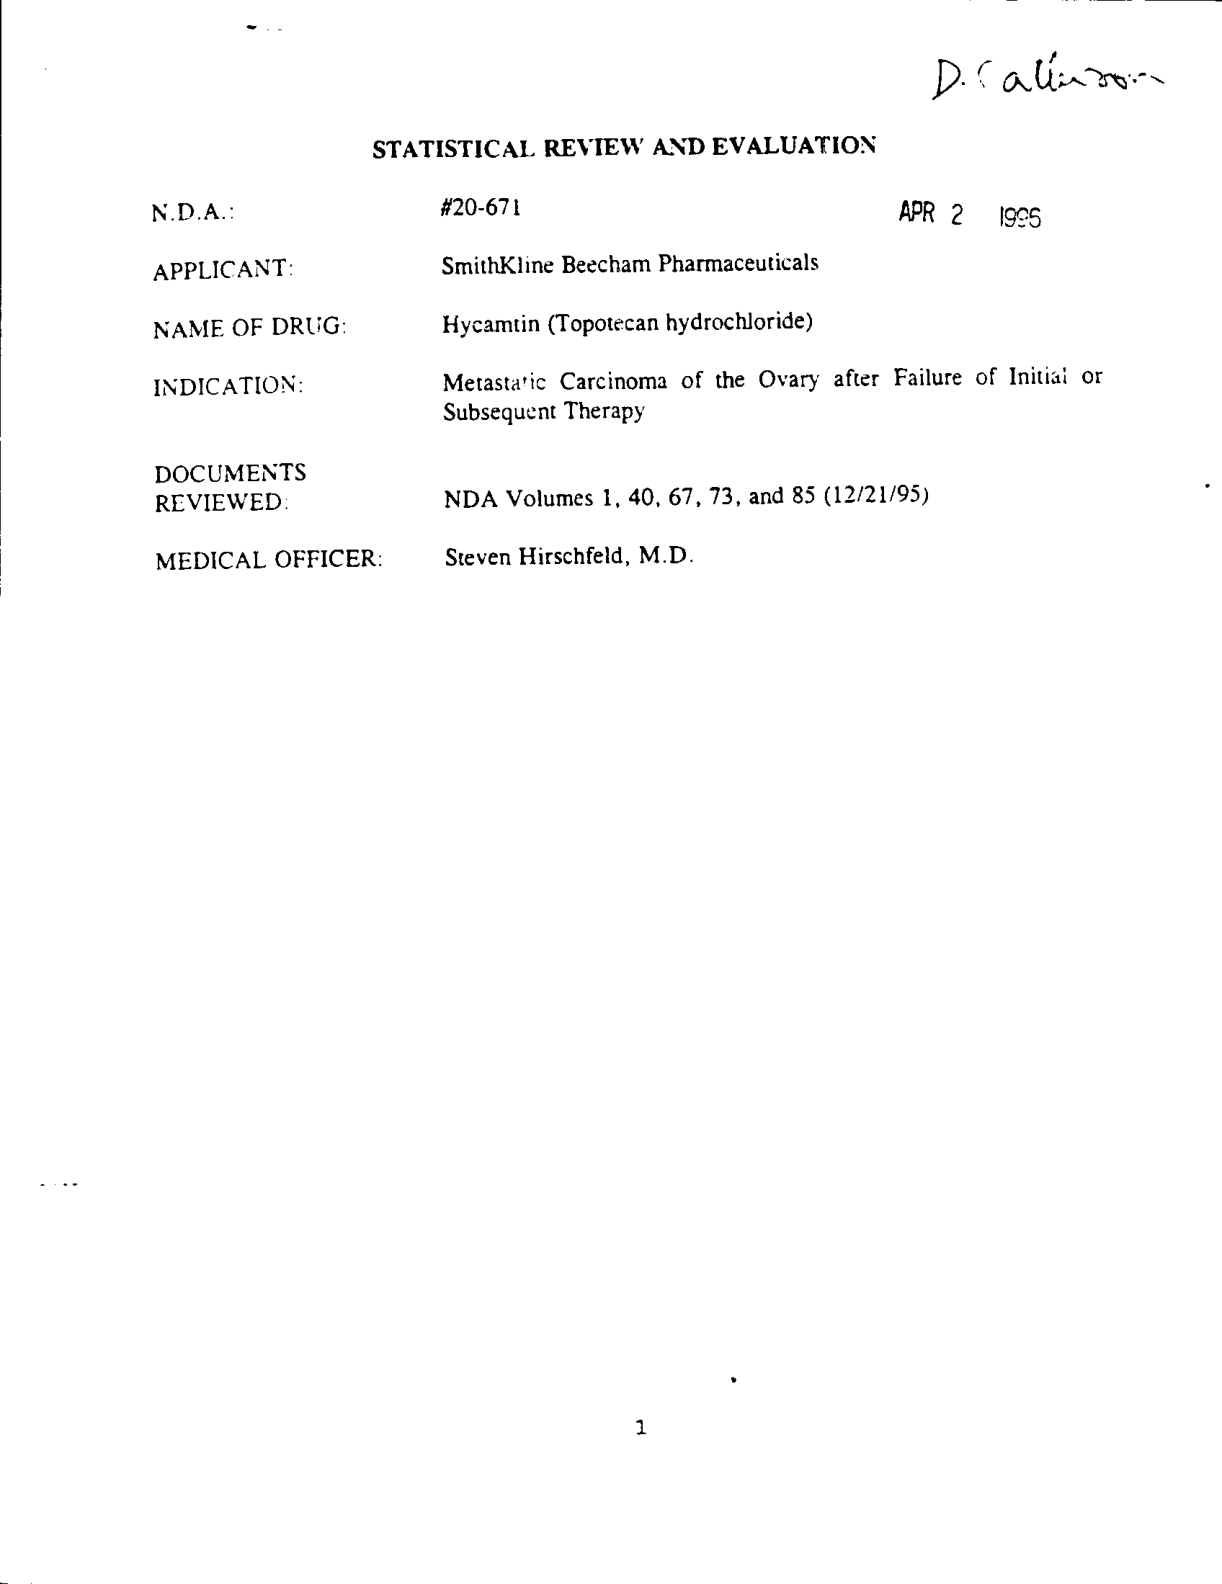nolines: (146, 191, 1109, 580)
